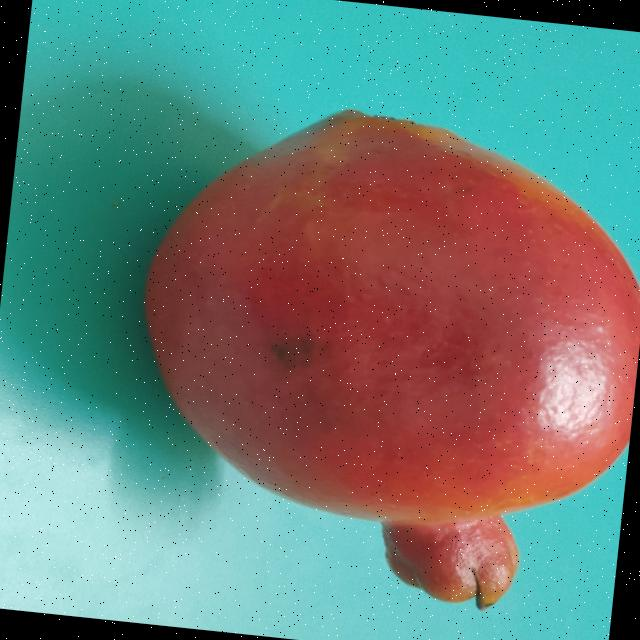Good_Pomegranate 50-60-days: (108, 85, 640, 625)
